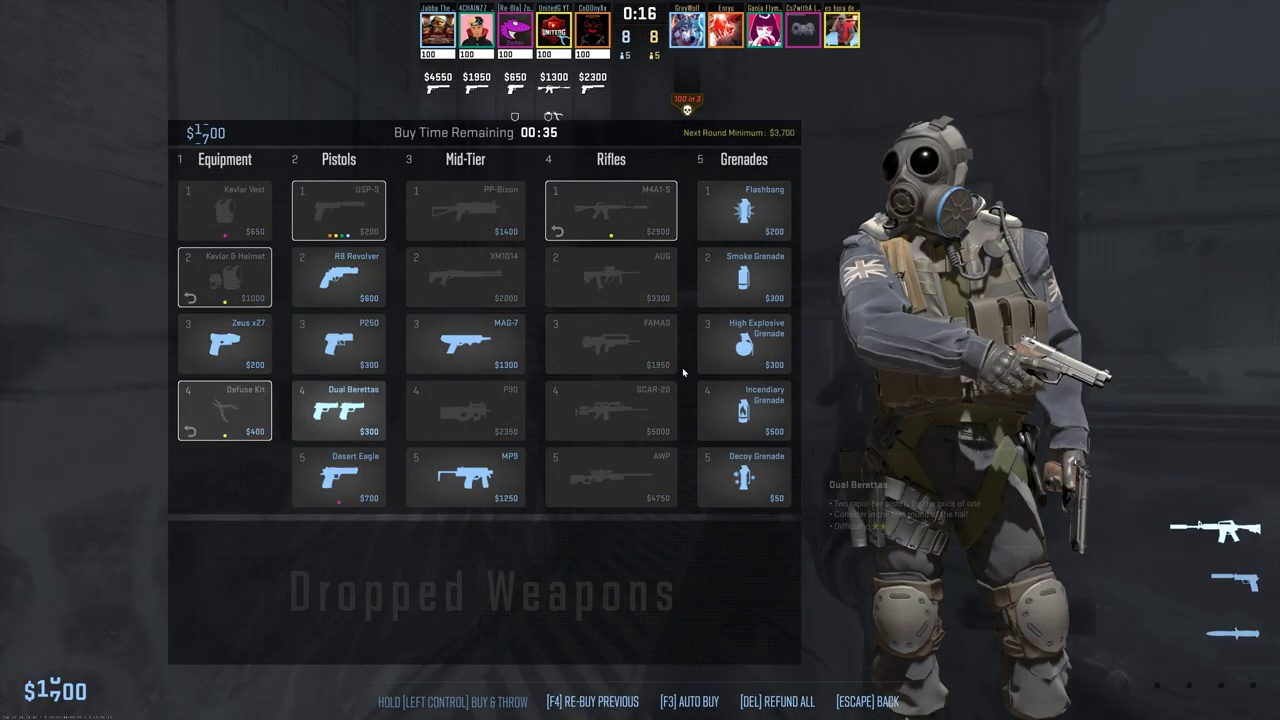CT: (851, 125, 1078, 720)
